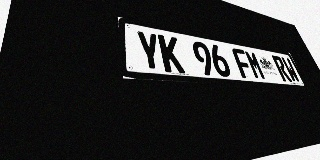6: (207, 43, 232, 77)
9: (191, 40, 217, 76)
F: (231, 48, 255, 79)
K: (157, 34, 185, 73)
M: (244, 50, 267, 80)
R: (271, 55, 292, 82)
W: (280, 57, 301, 83)
Y: (135, 30, 164, 72)
